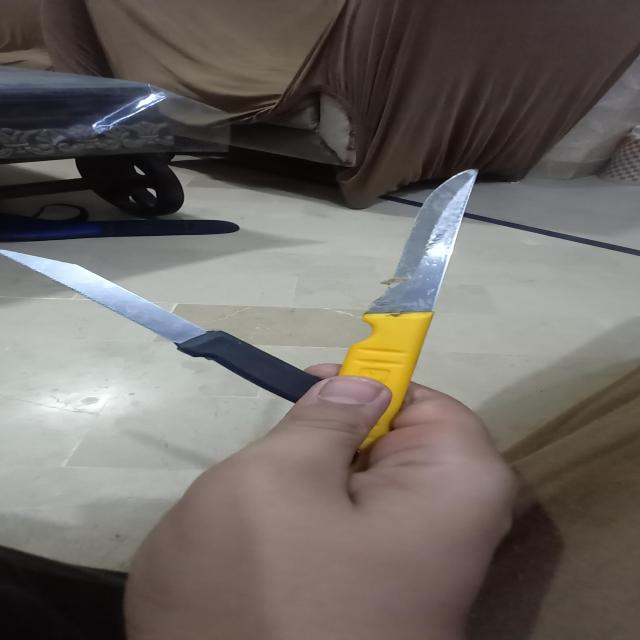Knife: (2, 248, 327, 404), (333, 169, 482, 448)
Person: (122, 364, 531, 637)
